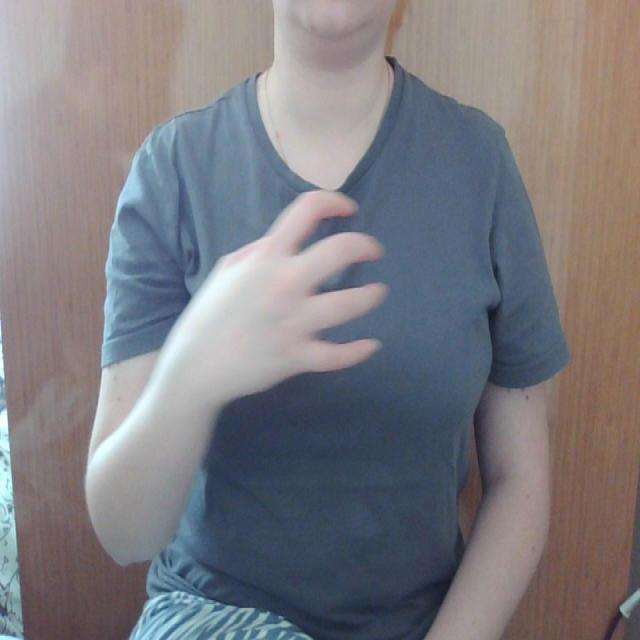Anne: (141, 184, 518, 384)
